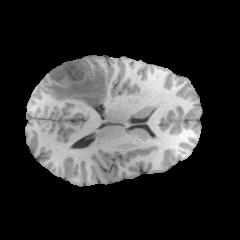glioma: (42, 60, 112, 108)
